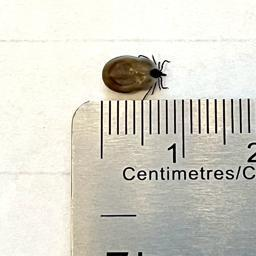Ixodes scapularis: (101, 55, 171, 99)
